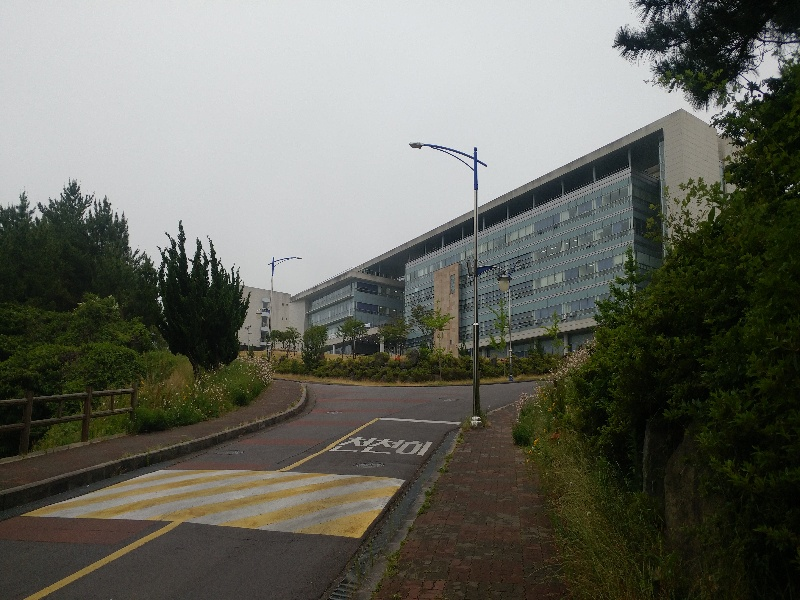College of Marine Science: (237, 284, 291, 345), (256, 290, 286, 339)
Engineering College Building 4: (302, 122, 752, 352), (303, 147, 587, 351)
